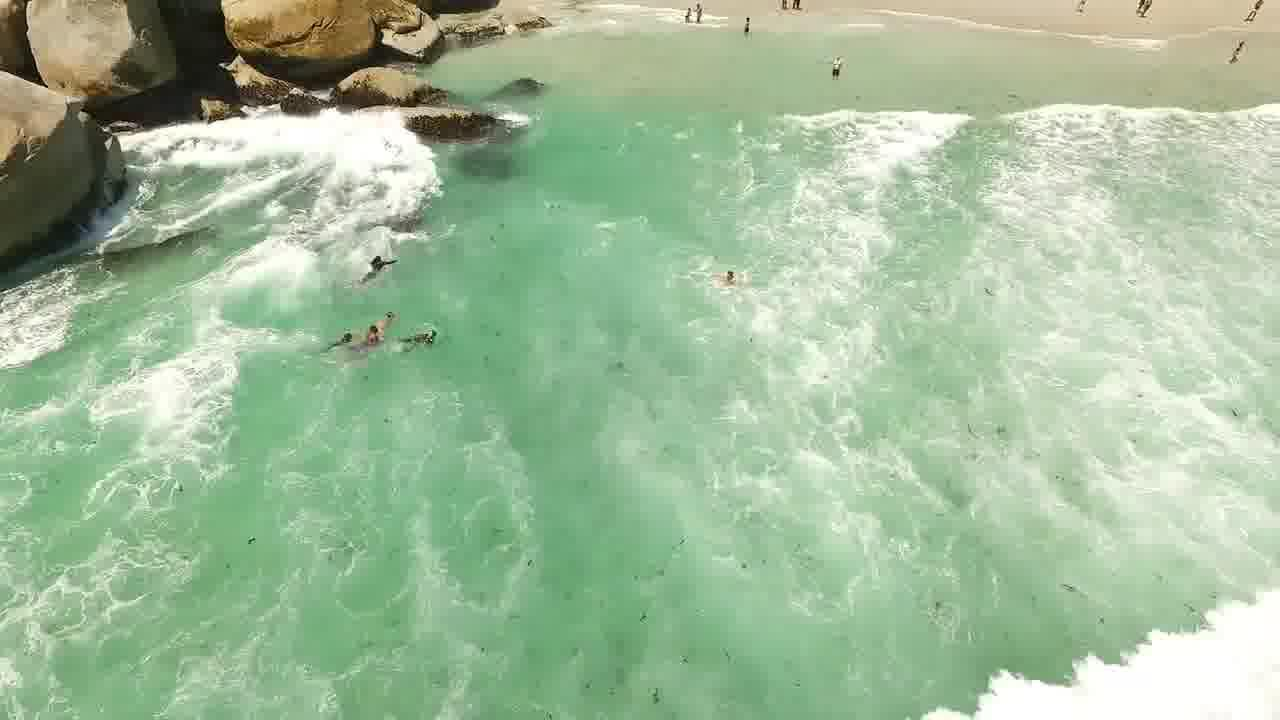human: (343, 253, 409, 284), (396, 327, 457, 357), (694, 267, 749, 295), (317, 324, 358, 352), (373, 301, 412, 330), (355, 322, 389, 351)
